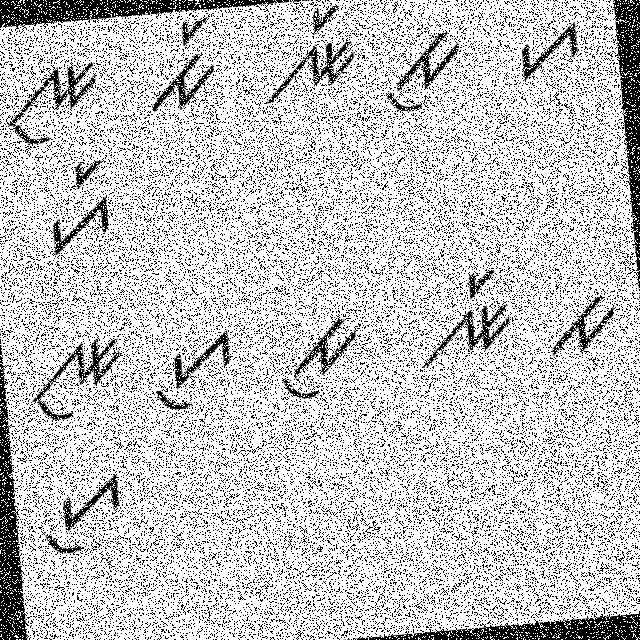ha: (500, 5, 594, 91)
har: (40, 156, 124, 264)
haw: (138, 314, 248, 420), (35, 460, 132, 561)
mba: (536, 280, 626, 362)
mbar: (143, 14, 225, 116)
mbaw: (266, 304, 365, 409), (377, 18, 468, 122)
ndar: (405, 248, 521, 384), (247, 0, 362, 112)
ndaw: (18, 322, 135, 433), (0, 48, 107, 155)
